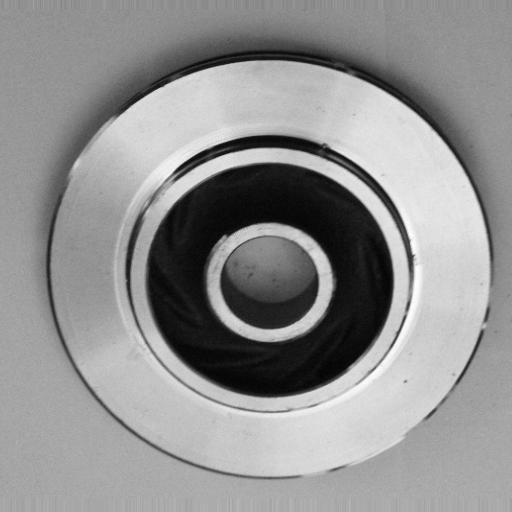scratch: (324, 422, 423, 487), (124, 166, 179, 242)
unpolished_casting: (44, 50, 496, 487)
